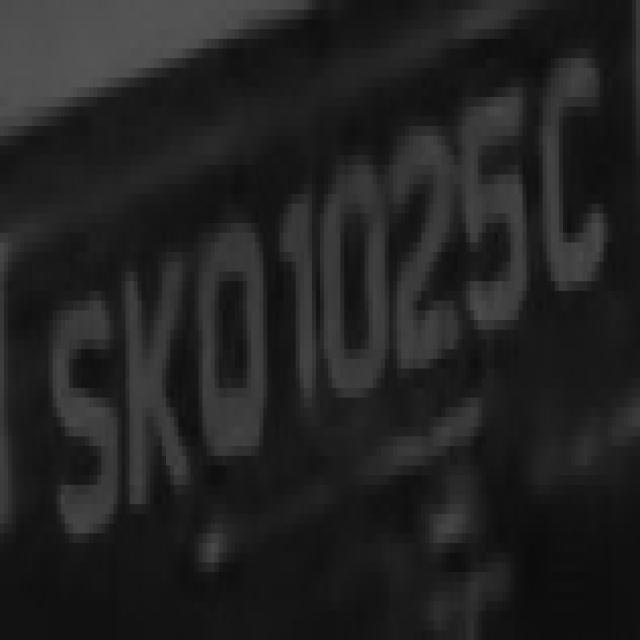0: (312, 126, 389, 456)
1: (275, 155, 320, 485)
2: (385, 58, 466, 417)
5: (454, 39, 526, 398)
C: (526, 39, 612, 359)
K: (110, 214, 194, 534)
Q: (186, 184, 264, 495)
S: (41, 262, 114, 572)
